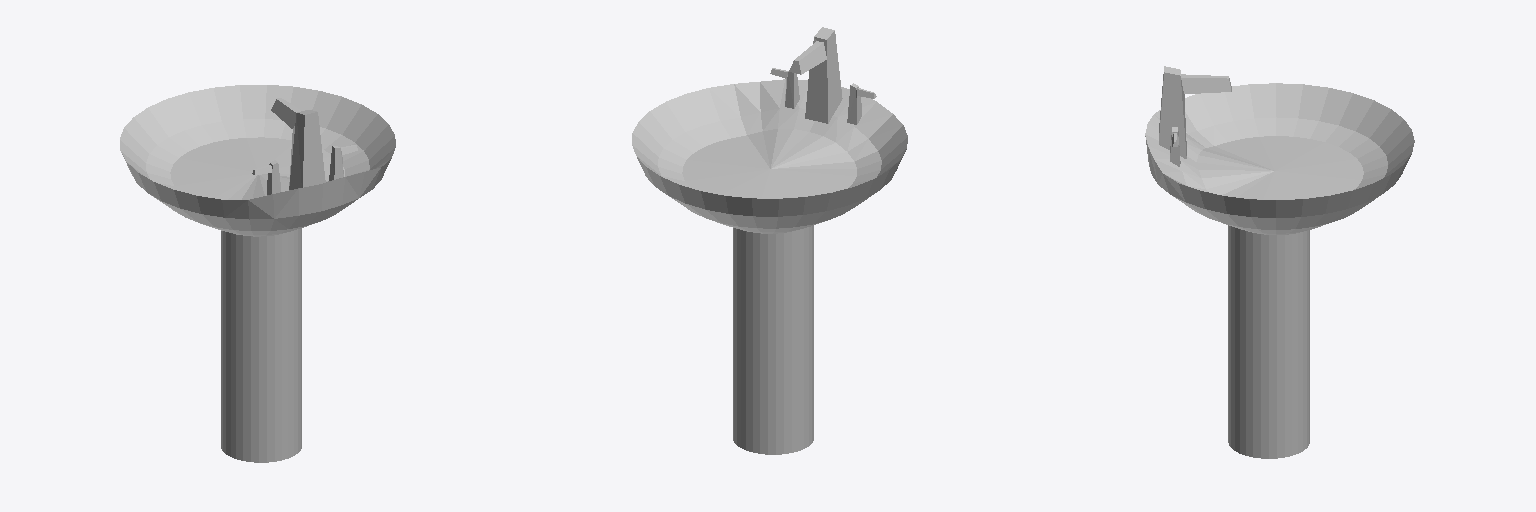
Rendered from Sink.obj.
The picture shows the model from 3 angles: view 1: azimuth 30°, elevation 25°; view 2: azimuth 150°, elevation 25°; view 3: azimuth 270°, elevation 25°; orthographic projection.
Parts seen in each view (by area): view 1: Cylinder.001, Cylinder, Cube.001; view 2: Cylinder.001, Cylinder, Cube.001, Cube.002, Cube.003; view 3: Cylinder.001, Cylinder, Cube.001.
Part boxes in pixels (left/top/right/bottom): Cylinder.001: left=120, top=85, right=395, bottom=236; Cylinder: left=221, top=228, right=301, bottom=462; Cube.001: left=271, top=98, right=325, bottom=189; Cylinder.001: left=632, top=79, right=907, bottom=233; Cylinder: left=733, top=226, right=813, bottom=454; Cube.001: left=789, top=27, right=842, bottom=123; Cube.002: left=847, top=83, right=876, bottom=124; Cube.003: left=770, top=68, right=799, bottom=108; Cylinder.001: left=1145, top=83, right=1414, bottom=234; Cylinder: left=1228, top=225, right=1309, bottom=458; Cube.001: left=1159, top=66, right=1231, bottom=158.
Size of the model in its own units: 3.18 by 4.7 by 3.09.